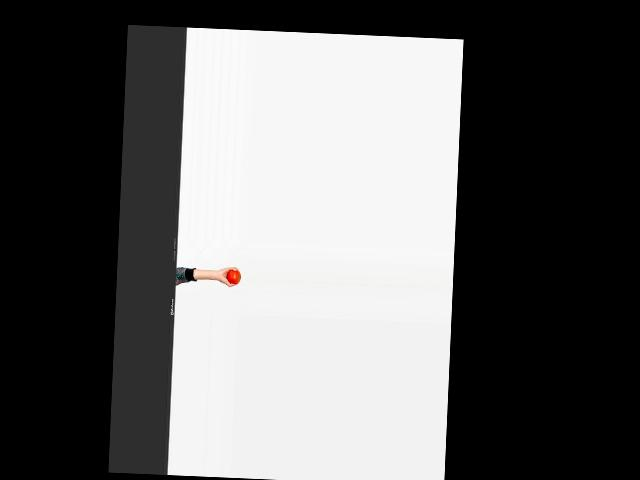tomato: (226, 269, 241, 284)
